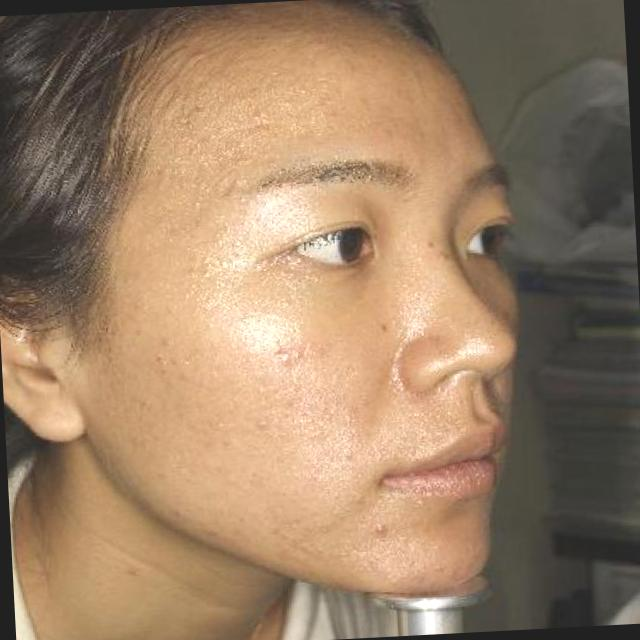nodules: (266, 342, 312, 368), (368, 522, 394, 538), (328, 504, 346, 523), (156, 164, 174, 183), (180, 141, 198, 158), (254, 416, 273, 432), (278, 294, 294, 312), (238, 312, 255, 328), (329, 70, 342, 88), (205, 291, 218, 308), (195, 175, 208, 192), (257, 474, 270, 490), (438, 248, 450, 265), (330, 548, 347, 560), (178, 370, 192, 384), (276, 428, 290, 442), (308, 428, 318, 446), (314, 543, 326, 556), (298, 83, 310, 96), (320, 124, 334, 134), (215, 234, 224, 248), (264, 158, 276, 168), (232, 236, 240, 250), (280, 532, 290, 542), (188, 264, 196, 276)
